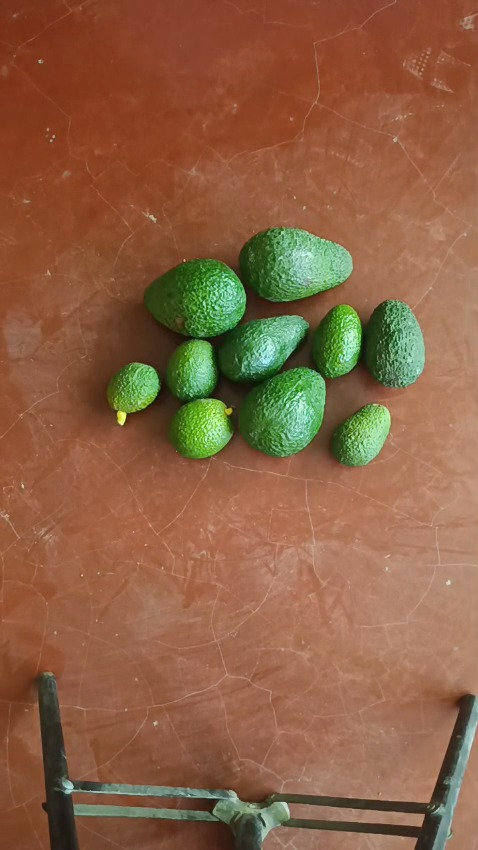Primera: (238, 227, 353, 302), (144, 259, 247, 338), (238, 368, 326, 455)
Segunda: (216, 315, 309, 384), (363, 300, 425, 388)
Tercera: (168, 398, 234, 458), (311, 303, 362, 379), (330, 403, 391, 465), (165, 338, 220, 402), (106, 361, 161, 415)
